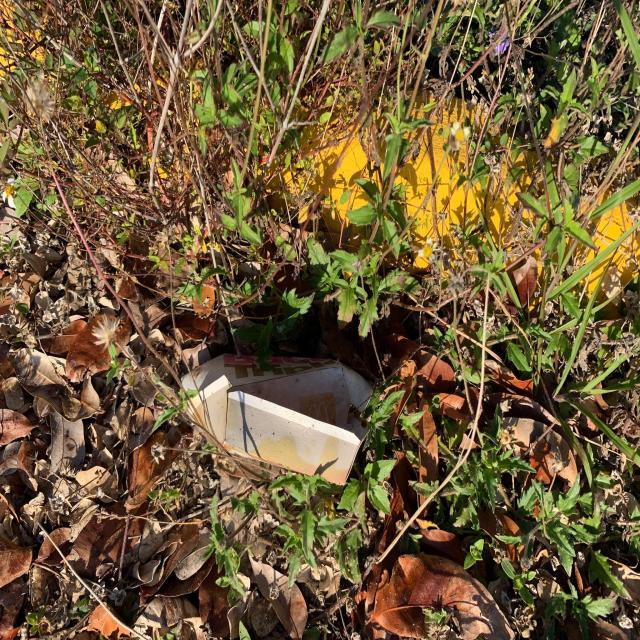litter: (180, 353, 374, 486)
